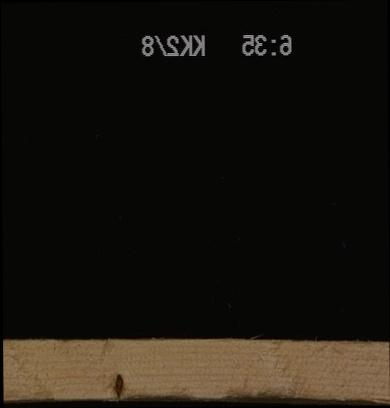dry_knot: (113, 370, 124, 398)
